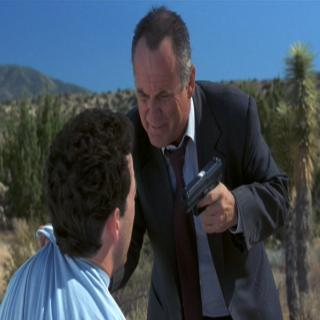gun: (176, 152, 227, 236)
